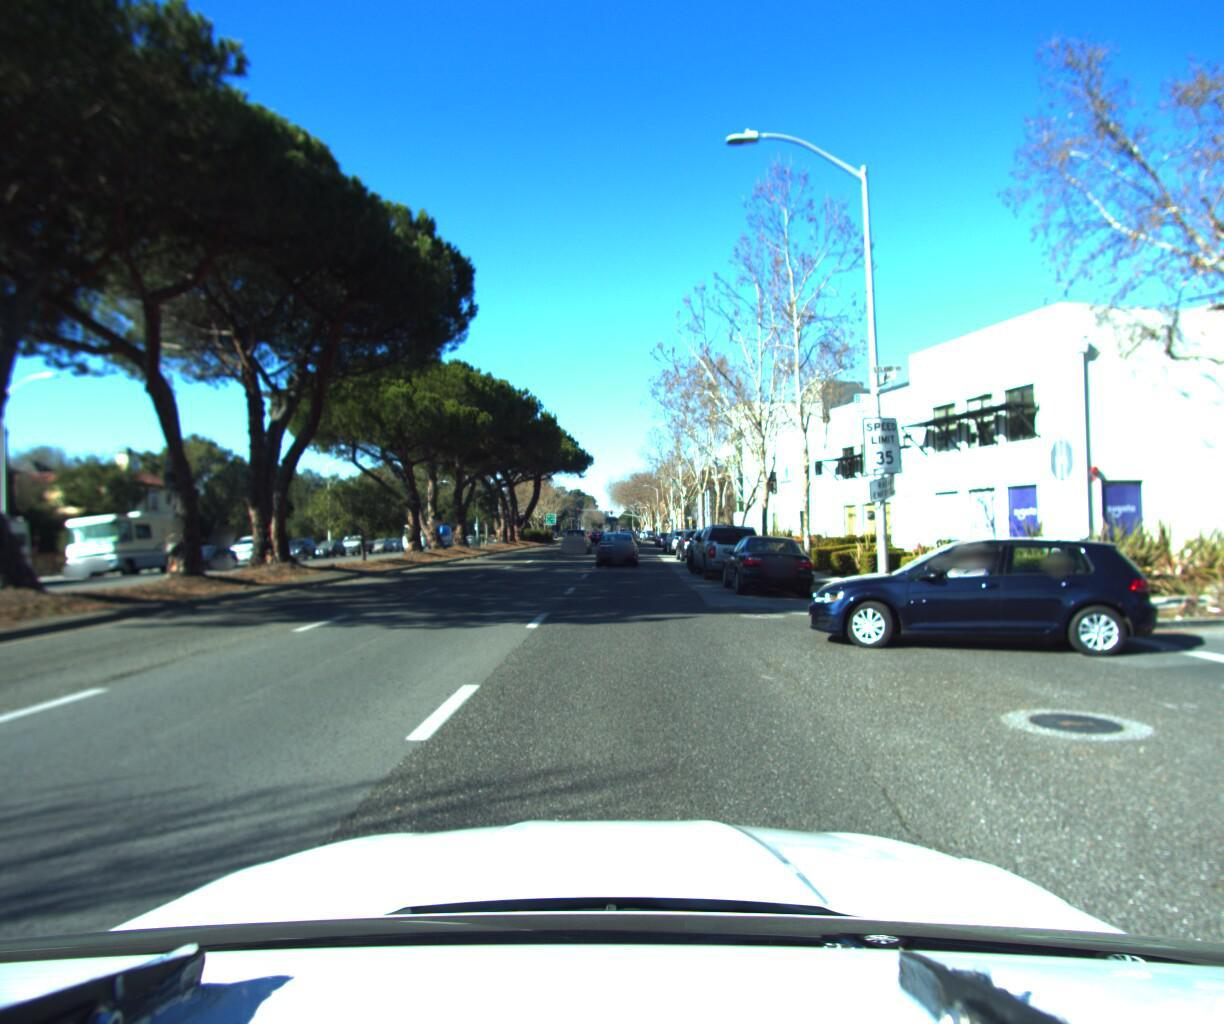car: (792, 522, 1170, 651), (720, 528, 825, 598), (691, 517, 780, 582), (685, 523, 744, 570), (225, 533, 294, 570), (181, 544, 245, 574), (593, 526, 640, 563), (667, 525, 703, 556), (336, 532, 379, 557), (311, 537, 352, 559), (562, 524, 593, 552)
other_vehicle: (60, 510, 206, 583)
